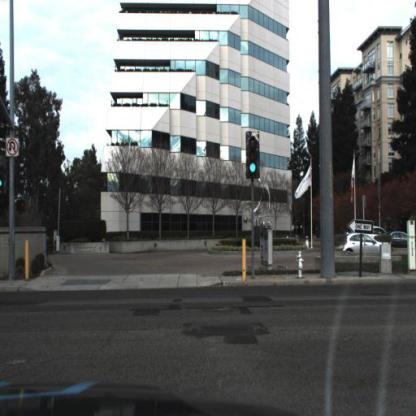car: (344, 237, 387, 255)
trafficLight-Green: (244, 132, 259, 181), (248, 135, 259, 177), (1, 166, 9, 193), (1, 169, 5, 199)
